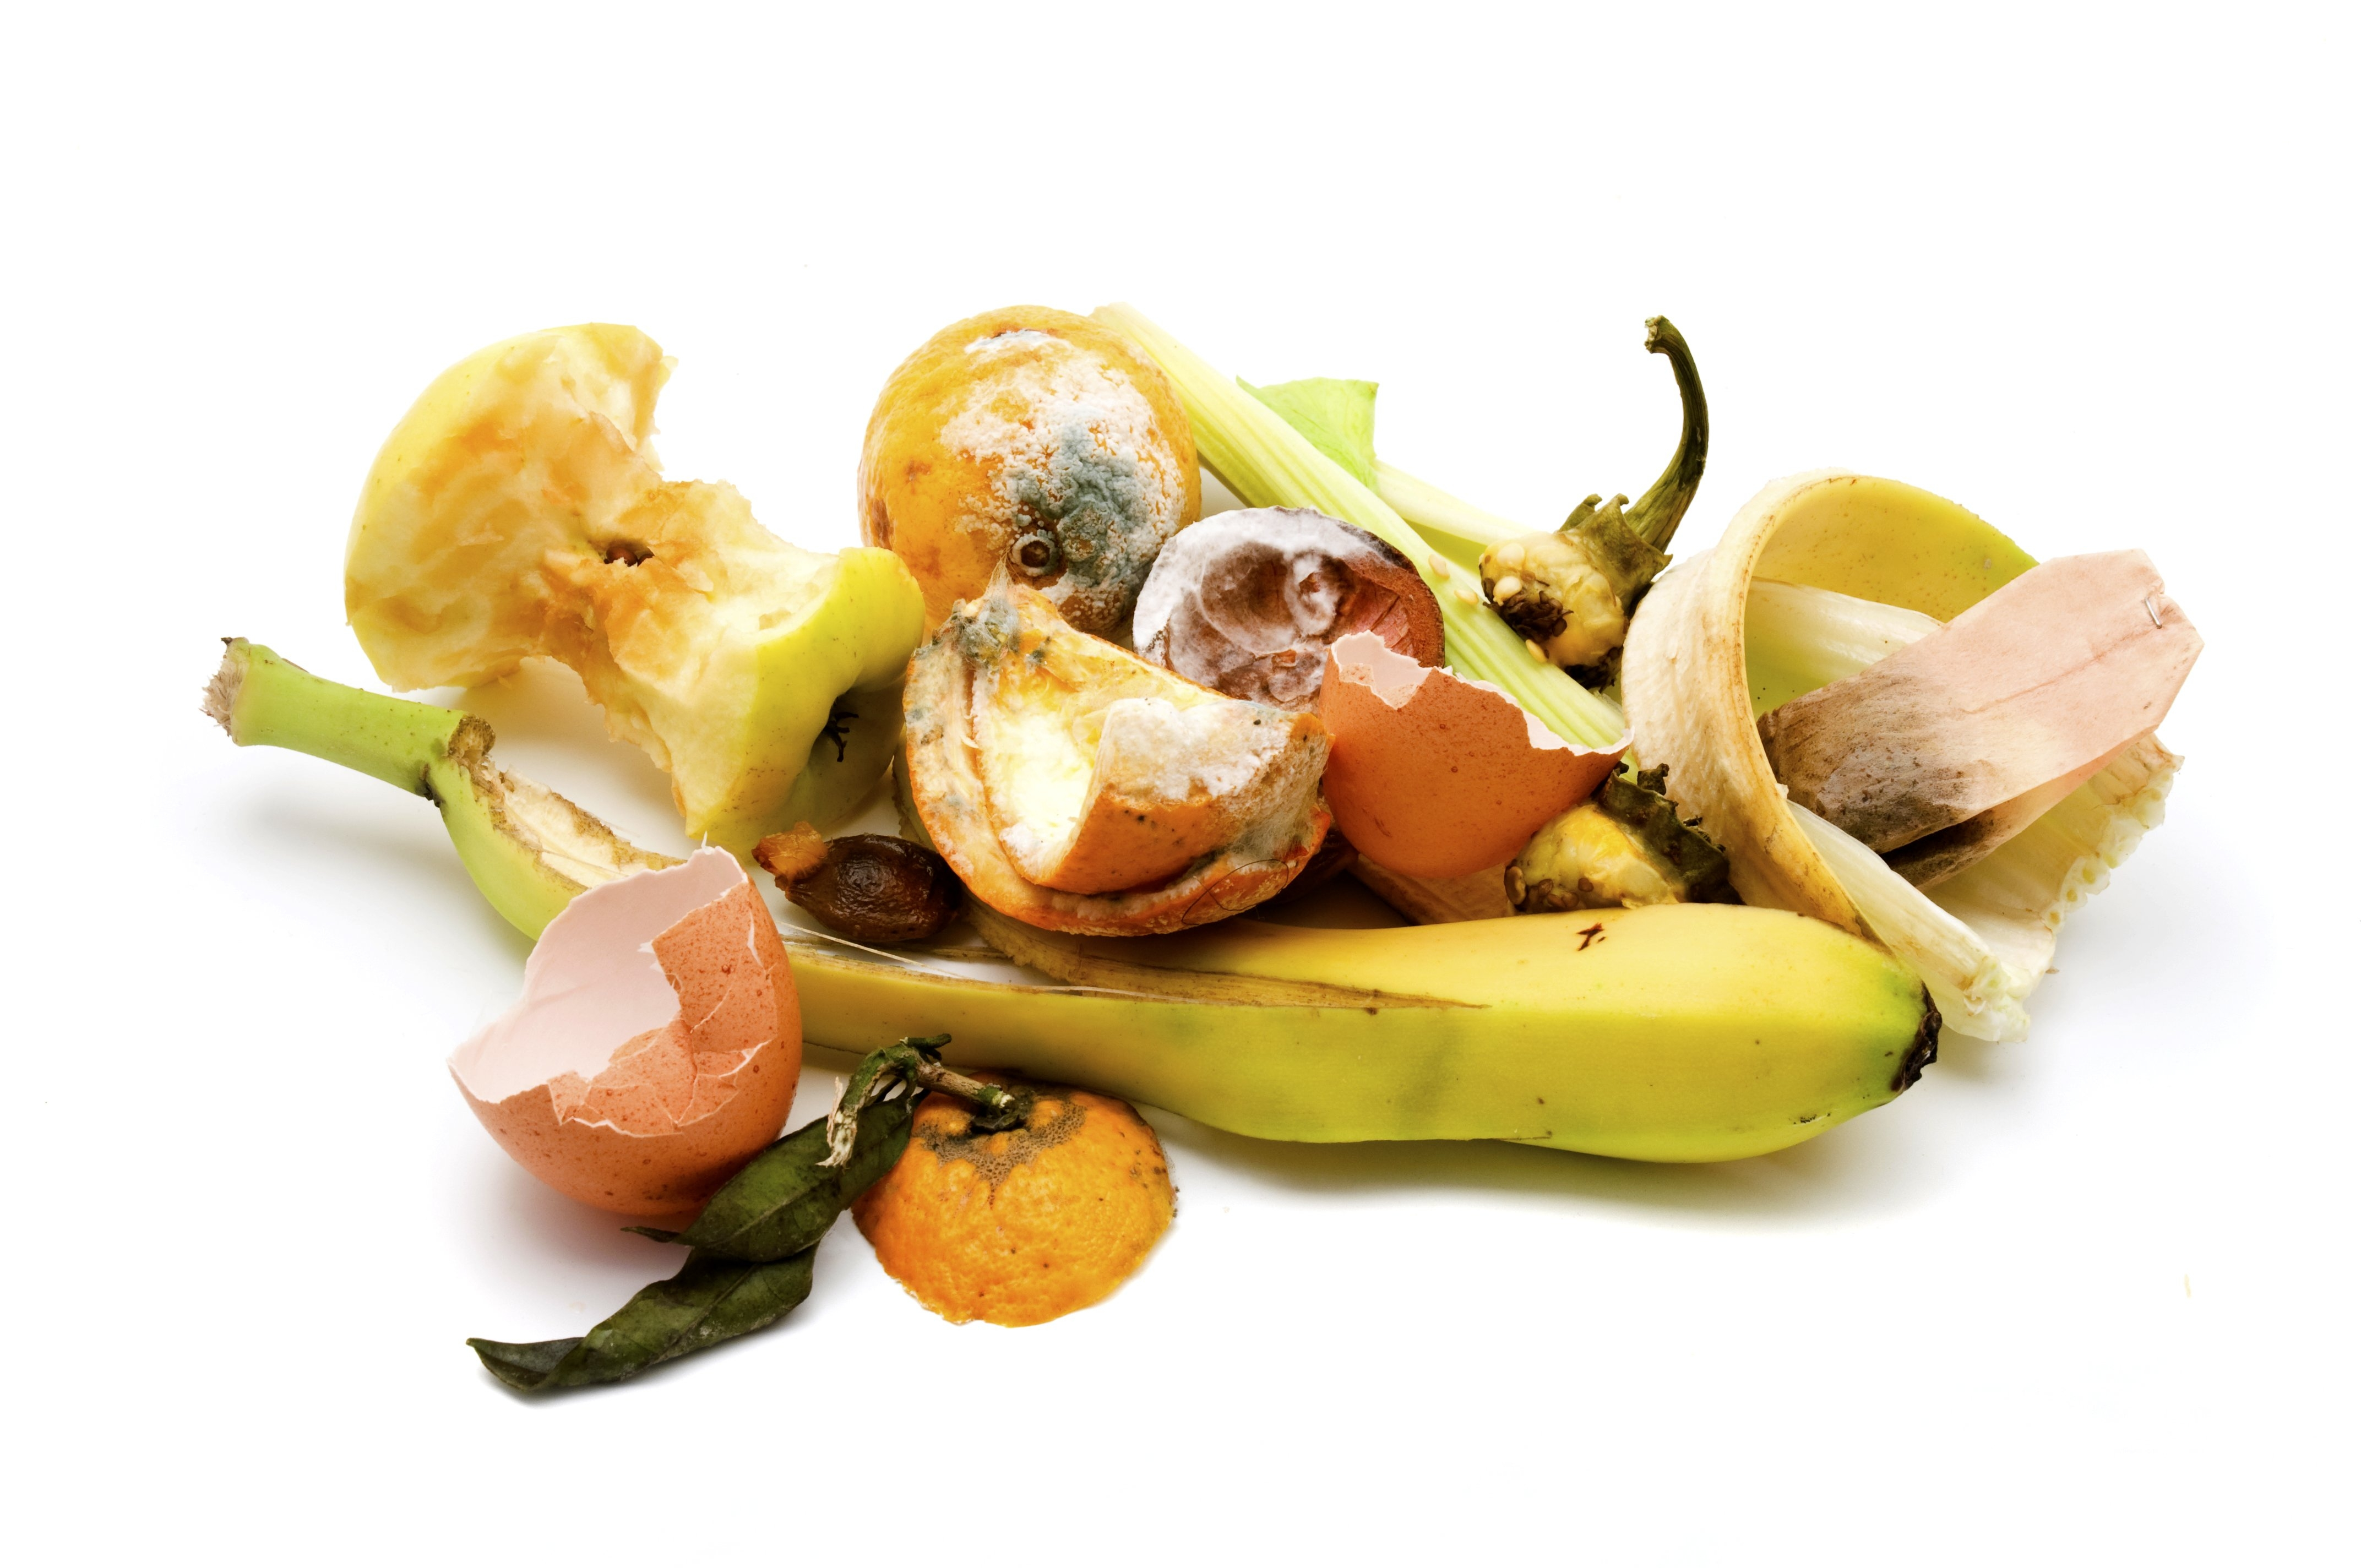kitchen_waste: (176, 612, 1999, 1221), (1541, 431, 2245, 1079), (312, 272, 951, 912), (407, 1039, 1035, 1415), (415, 832, 922, 1266), (878, 567, 1356, 952), (825, 296, 1232, 657), (1439, 301, 1776, 706), (852, 1055, 1214, 1381), (1288, 602, 1654, 897), (1118, 487, 1486, 752)
